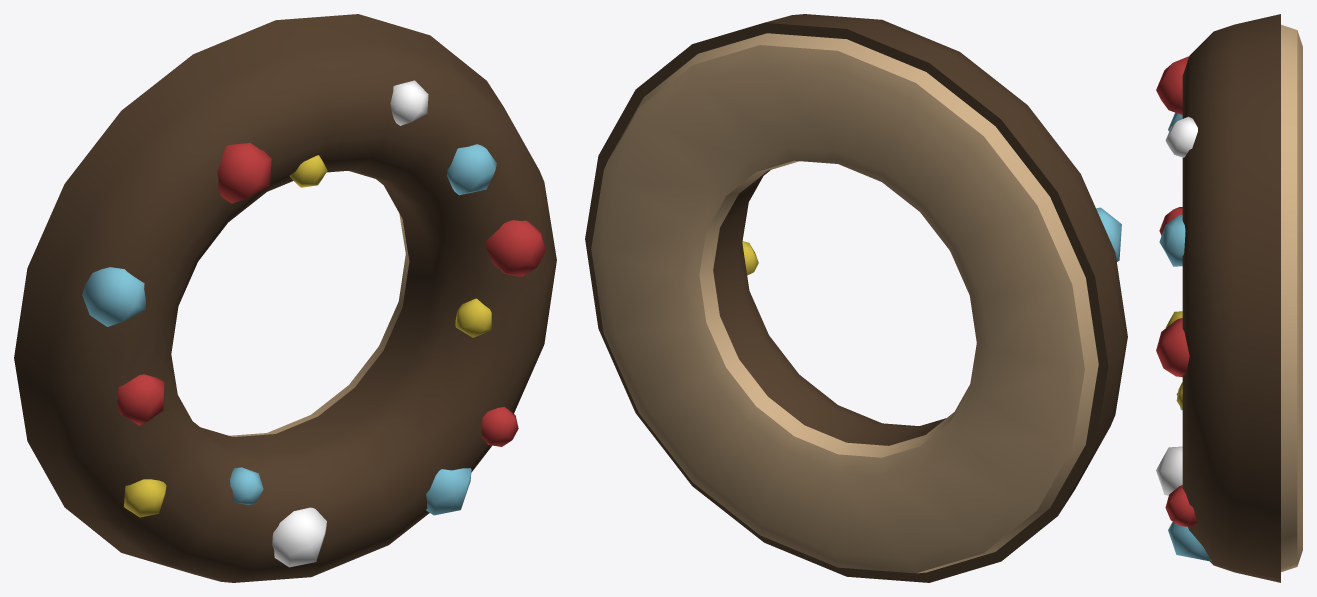
Rendered from SM_donut_sign.fbx.
3 views of the same model, side by side, from view 1: azimuth 30°, elevation 25°; view 2: azimuth 150°, elevation 25°; view 3: azimuth 270°, elevation 25° (orthographic). The views are drawn at different scales.
Visible parts, largest first — view 1: Object32437; view 2: Object32437; view 3: Object32437.
Boxes of the visible parts, box(x1,y1,x2,y2) form: Object32437: box(14, 14, 556, 582); Object32437: box(585, 14, 1127, 582); Object32437: box(1156, 14, 1302, 582).
Bounding box in the file's own units: 87.4 × 87.4 × 22.42.
